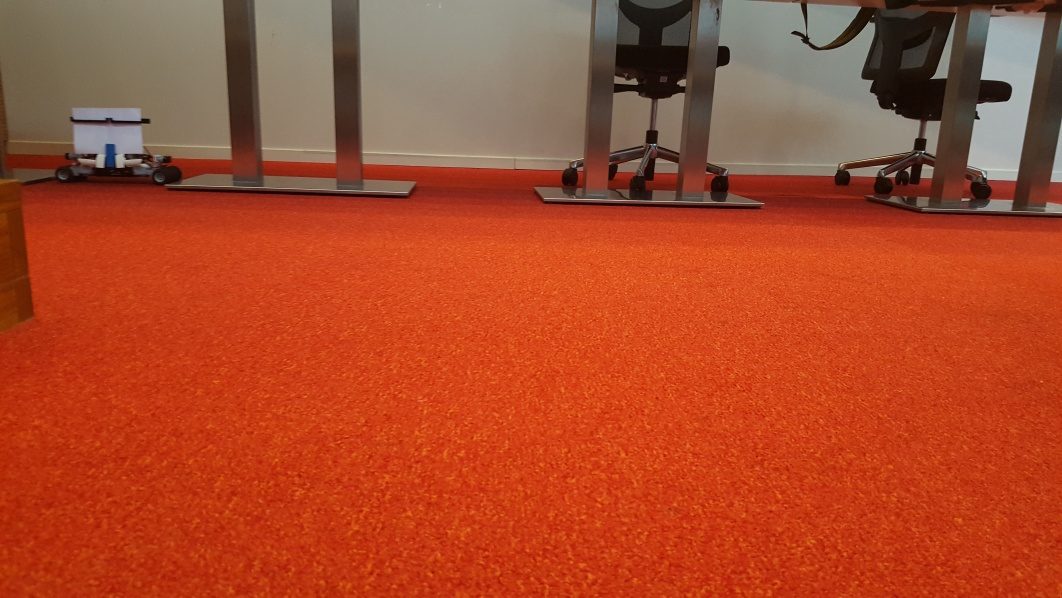car: (52, 105, 186, 188)
